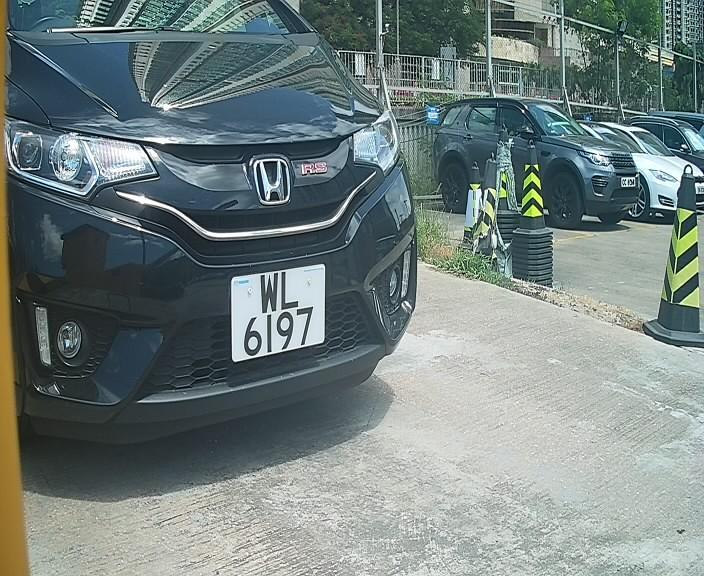privatecar: (1, 13, 441, 443)
